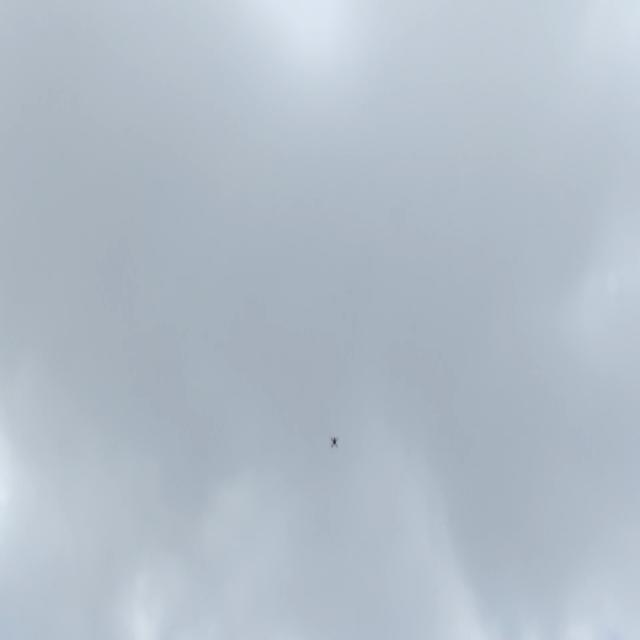drone: (329, 434, 339, 449)
